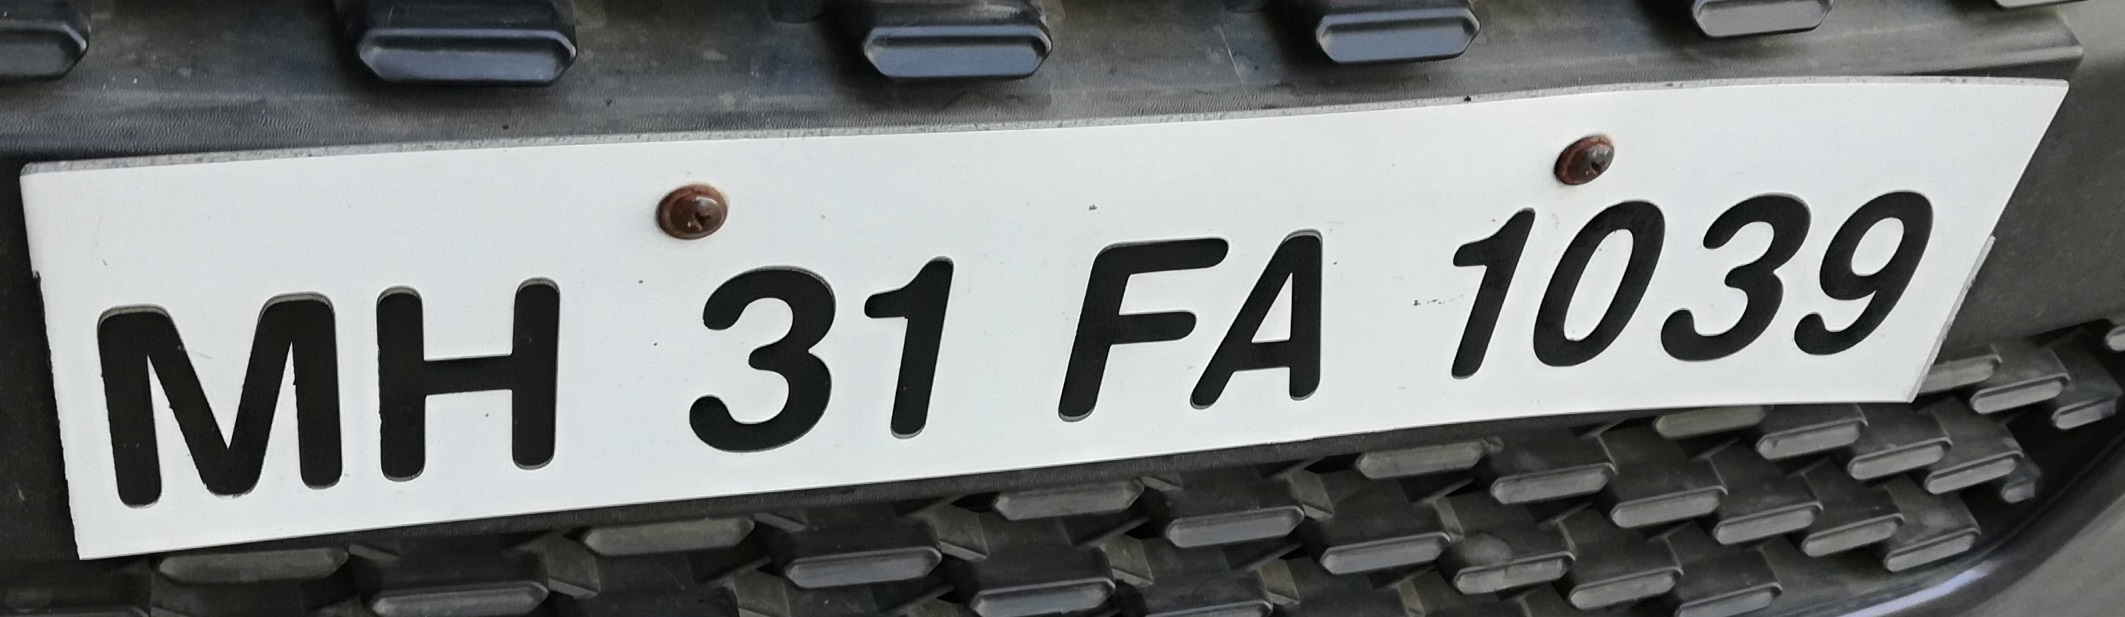numberplate: (25, 75, 2044, 569)
